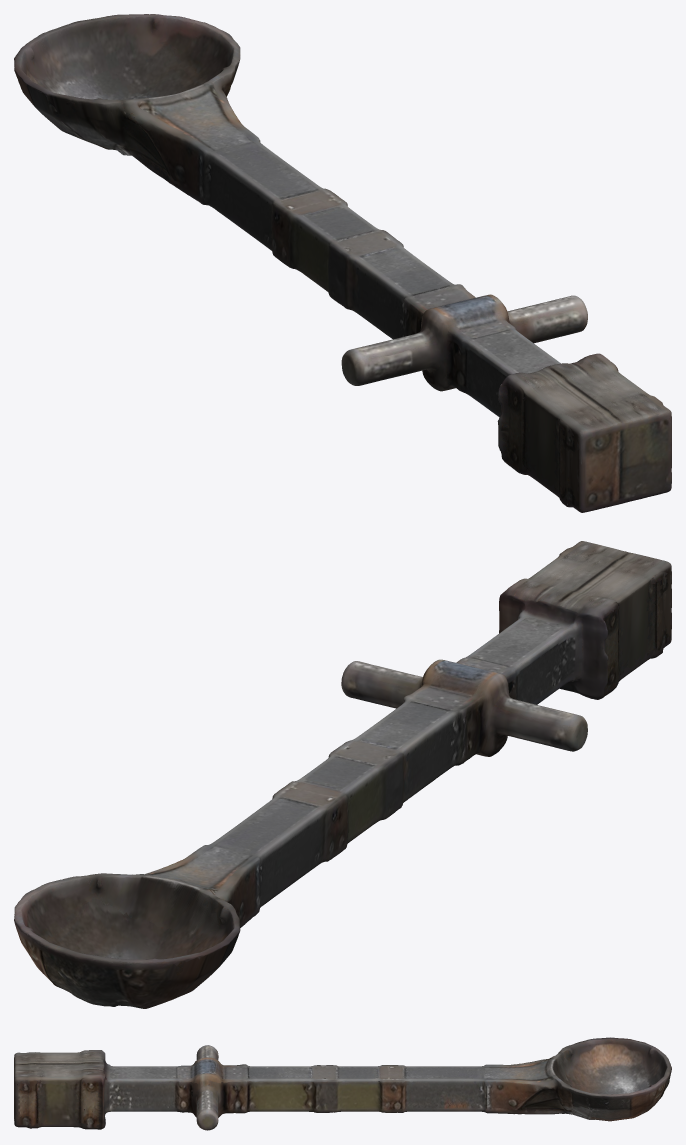
Rendered from catapulta_brazo.glb.
3 renders of one model, top to bottom at view 1: azimuth 30°, elevation 25°; view 2: azimuth 150°, elevation 25°; view 3: azimuth 270°, elevation 25°, orthographic. The views are drawn at different scales.
Visible parts, largest first — view 1: catapulta_brazo; view 2: catapulta_brazo; view 3: catapulta_brazo.
Part boxes in pixels (box(x1,y1,x2,y2)): catapulta_brazo: box(14, 14, 671, 512); catapulta_brazo: box(14, 541, 671, 1008); catapulta_brazo: box(14, 1037, 671, 1130).
Size of the model in its own units: 0.3901 by 0.1441 by 1.6.
1 material, 1 textured.
